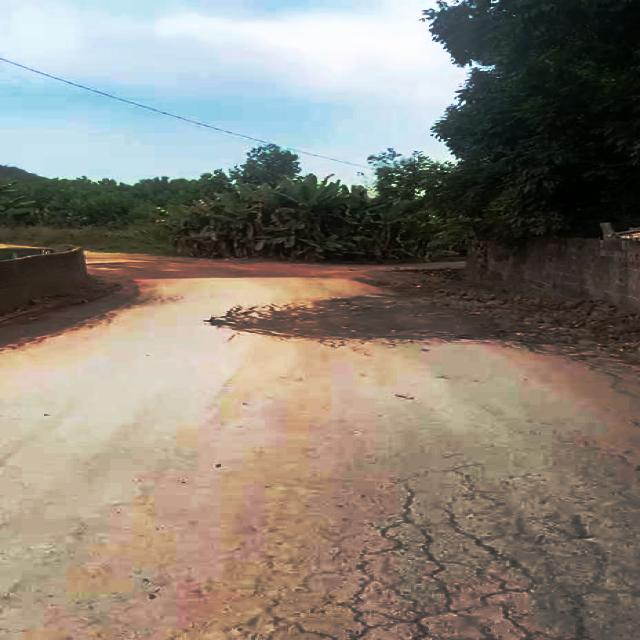pothole: (207, 293, 502, 342)
